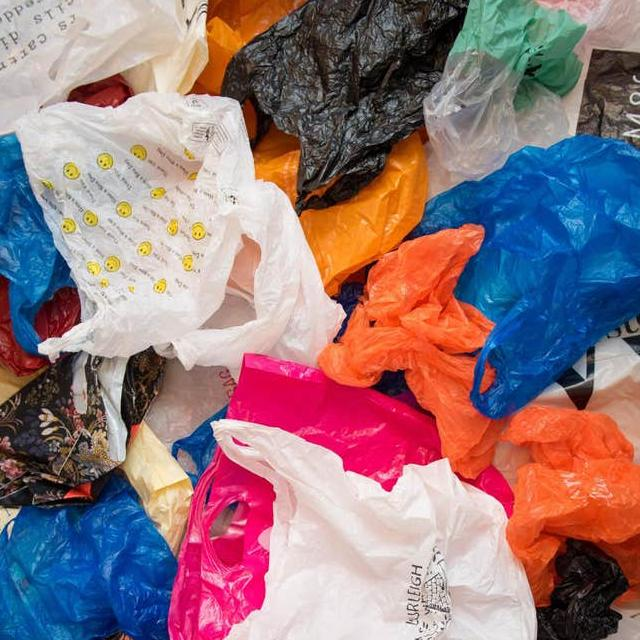Single-layer Plastic: (16, 94, 342, 371), (215, 420, 536, 640), (411, 135, 640, 418), (16, 92, 254, 358), (221, 0, 467, 213), (319, 224, 505, 479), (424, 0, 640, 179), (0, 474, 176, 640), (228, 355, 442, 490), (0, 0, 208, 134), (502, 406, 640, 606), (300, 131, 428, 295), (169, 450, 275, 640), (0, 134, 75, 354), (191, 0, 306, 94), (121, 421, 194, 554), (254, 126, 299, 203), (469, 466, 514, 514)
